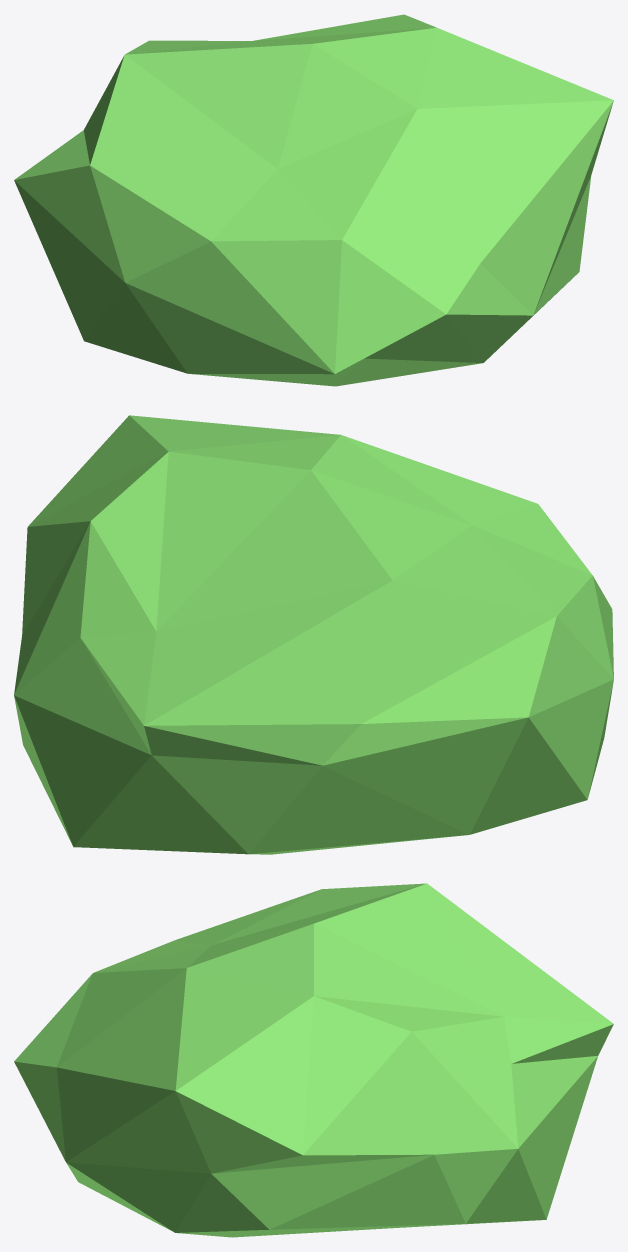
Rendered from bush1.fbx.
3 views of the same model, one above another, from view 1: azimuth 30°, elevation 25°; view 2: azimuth 150°, elevation 25°; view 3: azimuth 270°, elevation 25° (orthographic). The views are drawn at different scales.
Parts seen in each view (by area): view 1: bush1; view 2: bush1; view 3: bush1.
Part boxes in pixels (bbox=[...]): bush1: bbox=[14, 14, 613, 386]; bush1: bbox=[14, 415, 613, 854]; bush1: bbox=[14, 883, 613, 1237].
Size of the model in its own units: 139 by 83.88 by 150.
